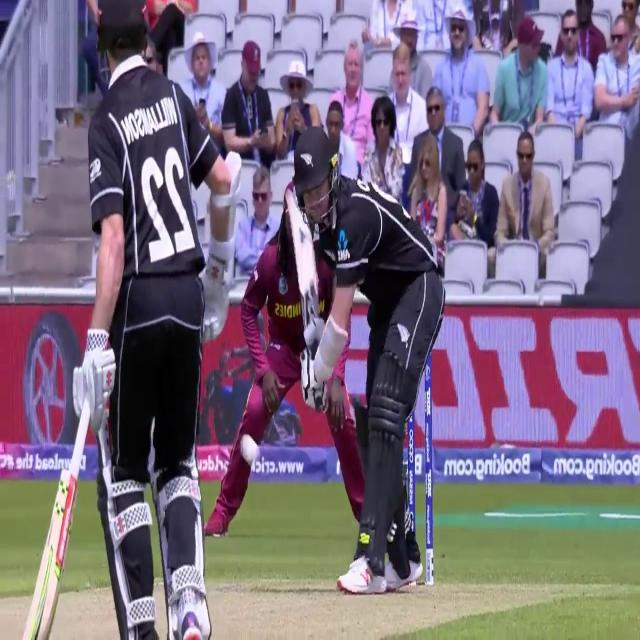ball: (233, 426, 267, 473)
